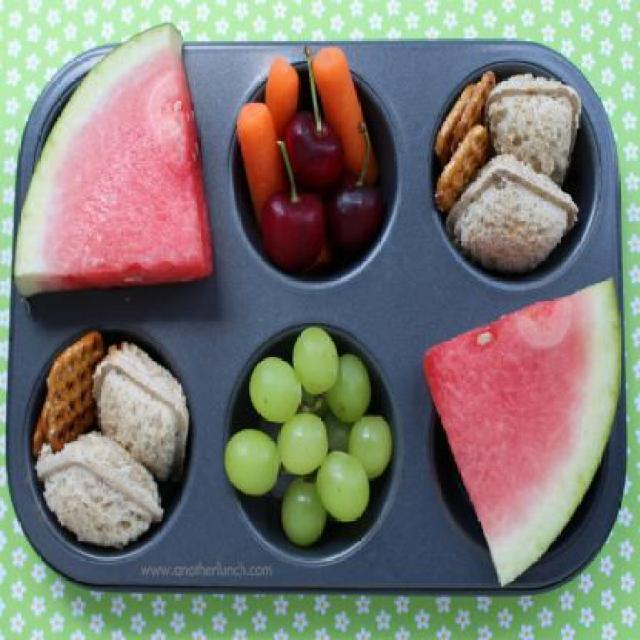Watermelon: (422, 277, 621, 588), (12, 19, 211, 295)
